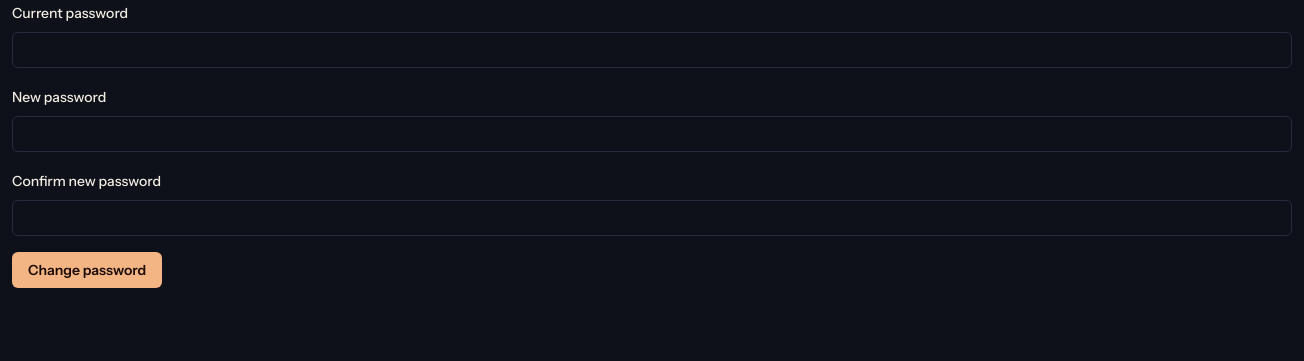
ChangePasswordForm › rejects a password shorter than 8 characters
This screenshot has width=1304, height=361.
Type "short" into the password field labelled "New password" at coordinates (652, 134), box [12, 116, 1292, 152]
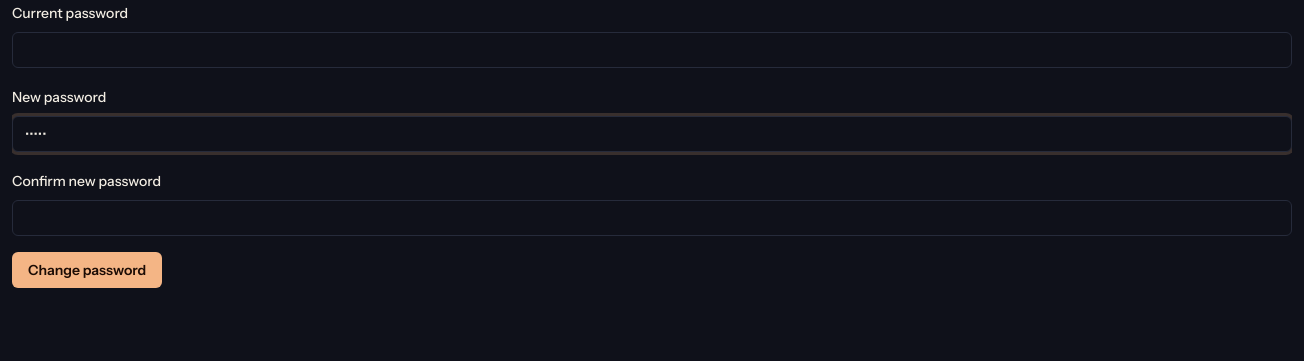
Type "short" into the password field labelled "Confirm new password" at coordinates (652, 218), box [12, 200, 1292, 236]
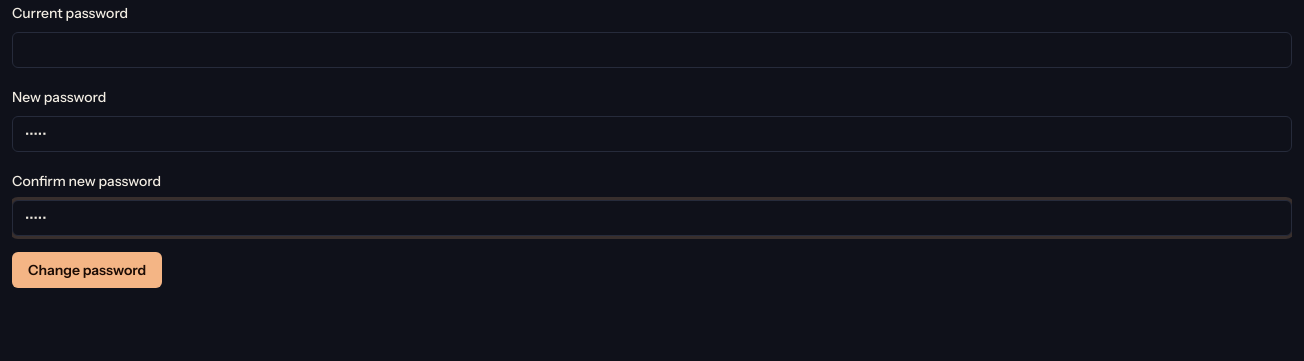
Click the button "Change password" at coordinates (87, 270), box [12, 252, 162, 288]
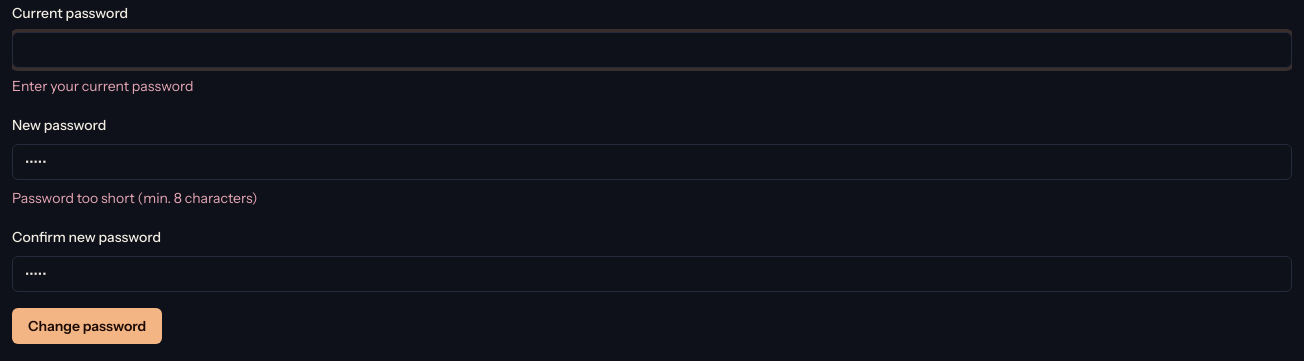
Expected: the text "Password too short (min. 8 characters)" is shown, [12, 189, 257, 207]
